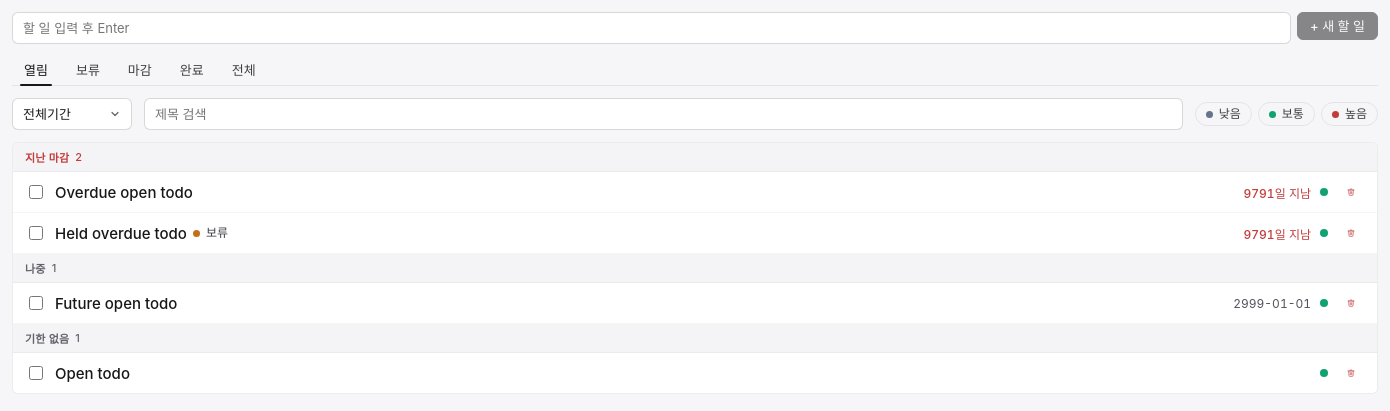
it: TodoPage filters › filters overdue todos to open items with past due dates
Check: the text "Open todo" is shown, box [55, 364, 130, 382]
Click the tab "마감": (140, 70) [116, 56, 164, 85]
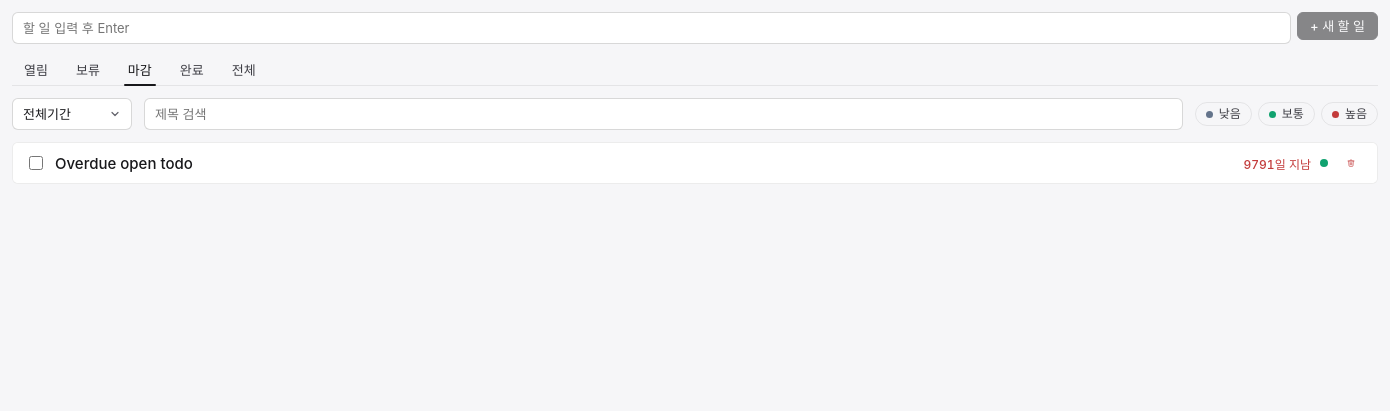
Check: the text "Overdue open todo" is shown, box [55, 154, 193, 172]
Check: the text "Future open todo" is gone
Check: the text "Held overdue todo" is gone
